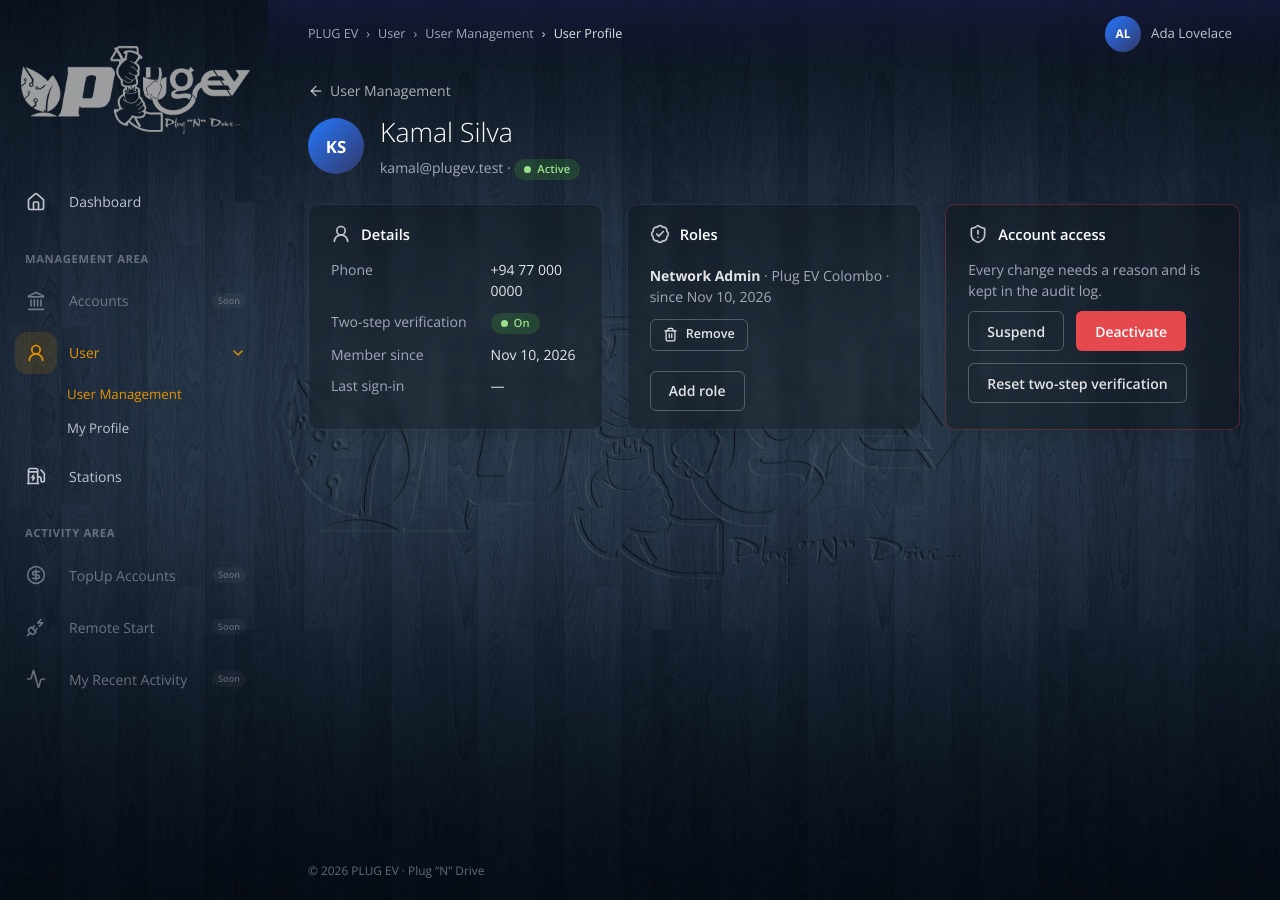
Test case: User profile (admin view) › resets two-step verification
Click the button "Reset two-step verification": (1077, 383) [968,363,1187,403]
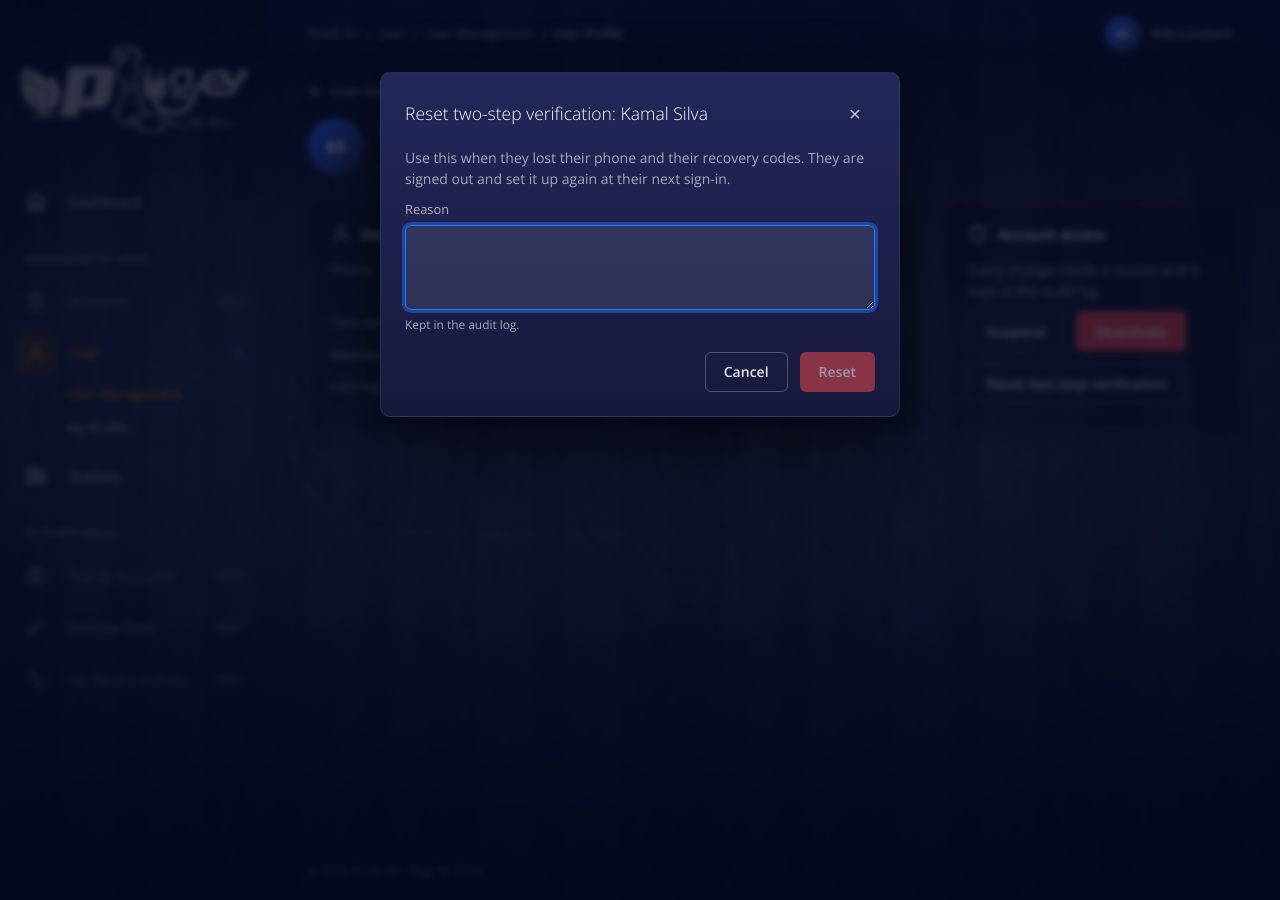
In the text box labelled "Reason": (640, 267) [405,225,875,310], type "Lost phone"
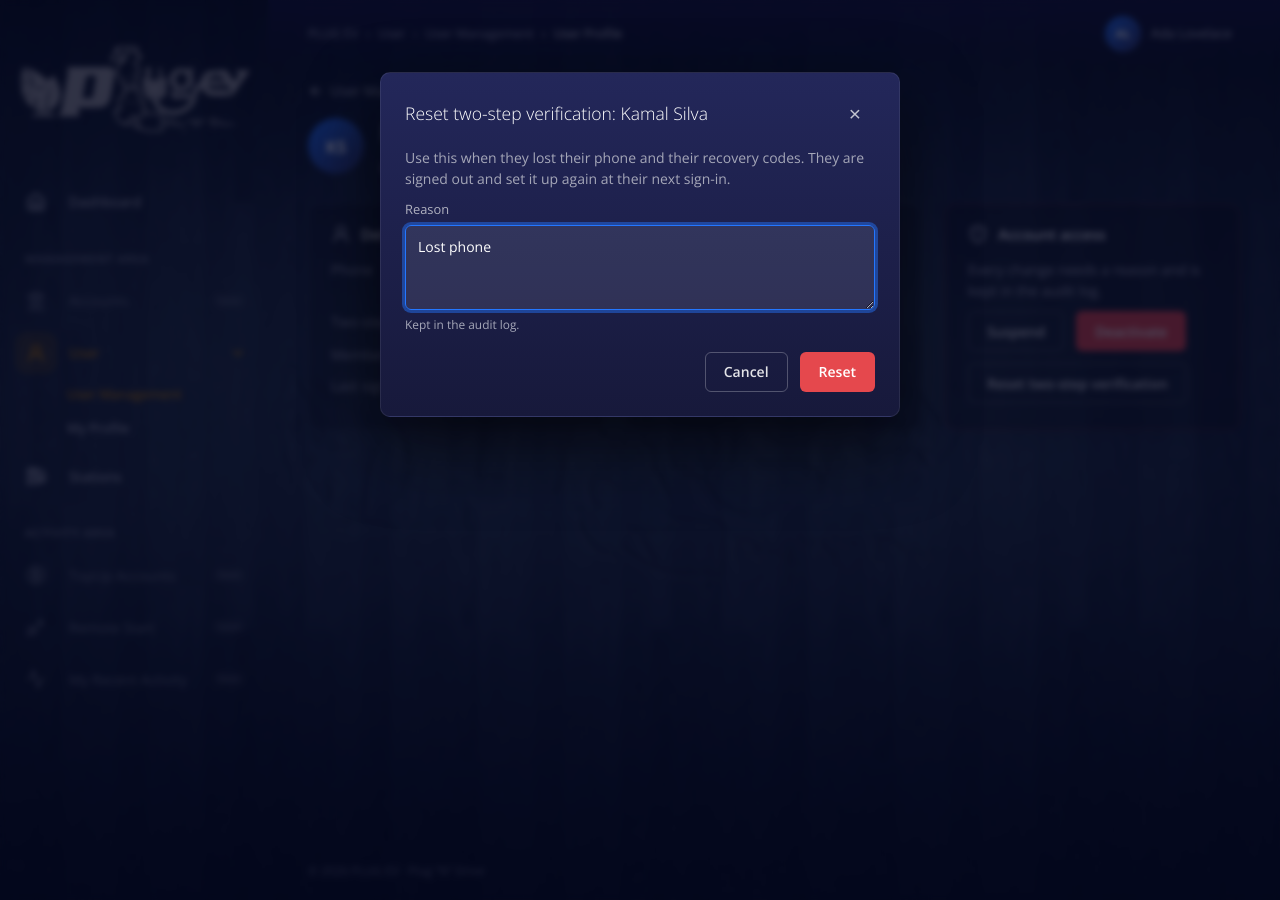
Click the button "Reset": (837, 372) [800,352,875,392]
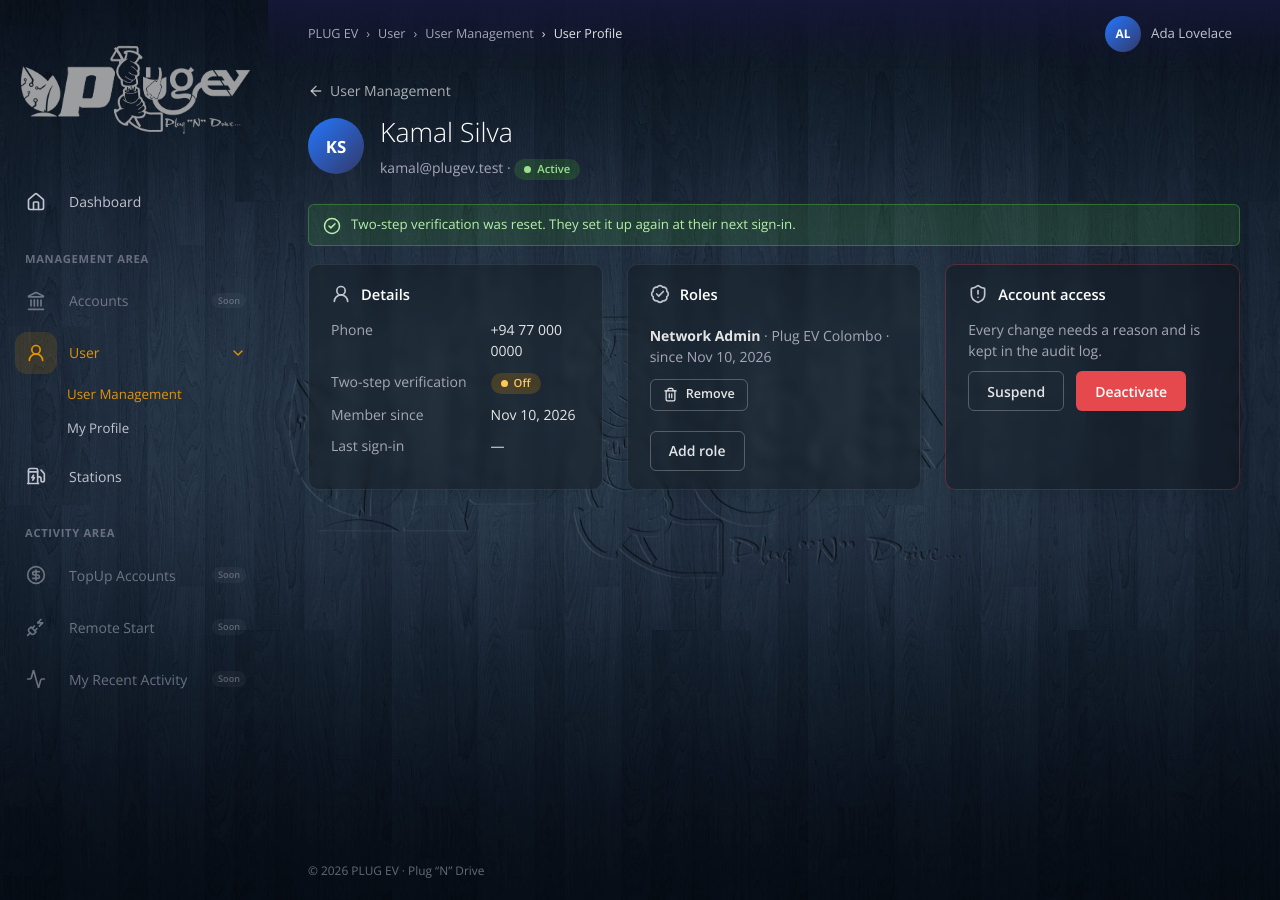
expect the text "was reset" is shown: met, box [351,215,796,233]
expect the button "Reset two-step verification" is gone: met
